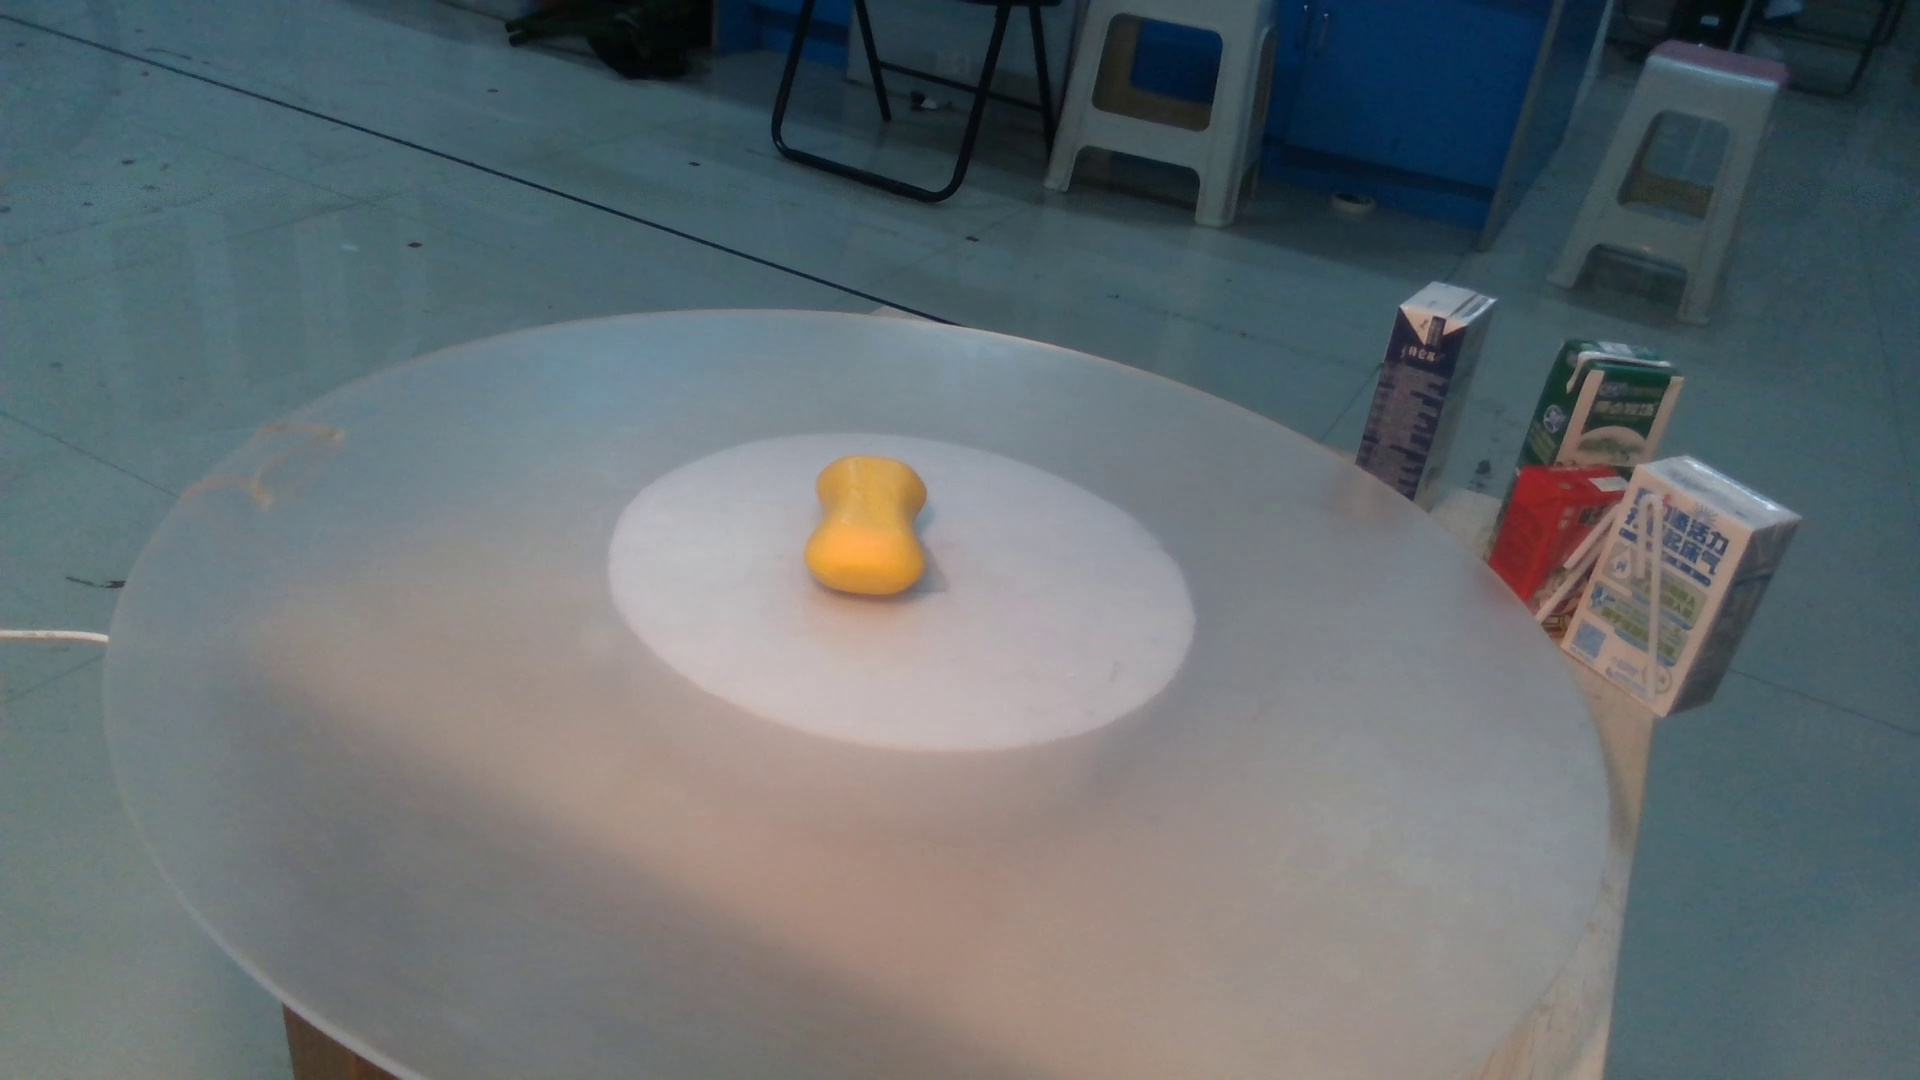CA003_1: (785, 450, 977, 599)
